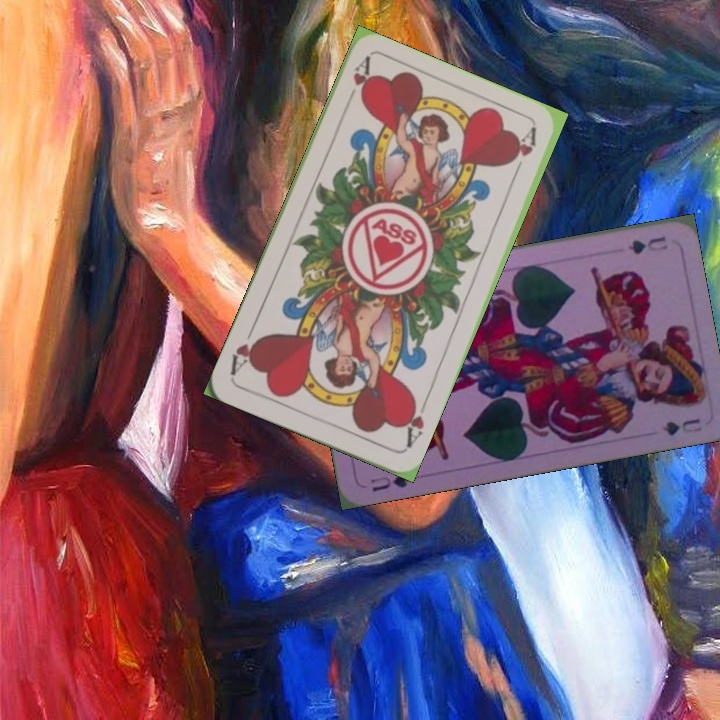GU: (366, 469, 414, 495), (623, 232, 670, 257)
HA: (398, 392, 430, 451), (340, 55, 374, 110)
